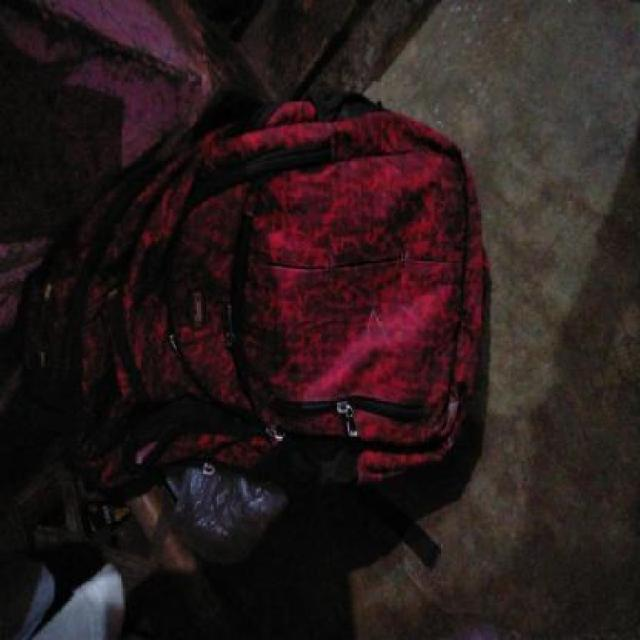backpack: (6, 85, 497, 509)
